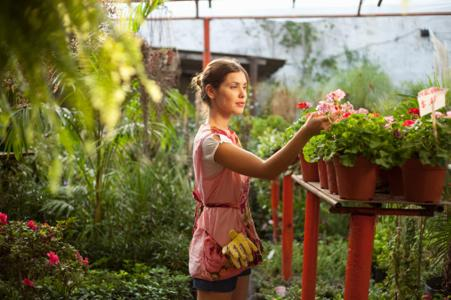person: (188, 60, 333, 299)
